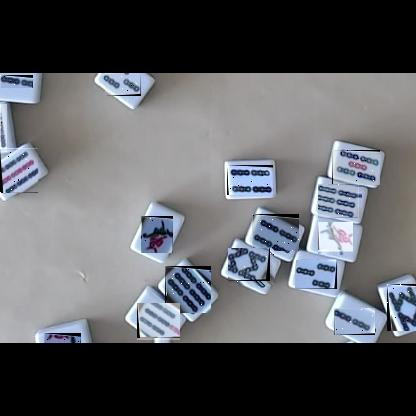1s: (141, 216, 173, 253), (318, 223, 353, 255), (44, 333, 81, 343)
2s: (334, 308, 375, 335), (0, 75, 33, 88)
3s: (295, 259, 337, 289), (105, 73, 141, 96)
4s: (252, 214, 299, 251), (227, 165, 273, 195)
5s: (332, 150, 380, 185)
6s: (165, 266, 211, 313), (319, 184, 362, 218)
7s: (137, 304, 180, 343)
8s: (229, 249, 275, 286), (387, 284, 416, 331)
9s: (0, 148, 38, 193), (0, 104, 7, 152)
